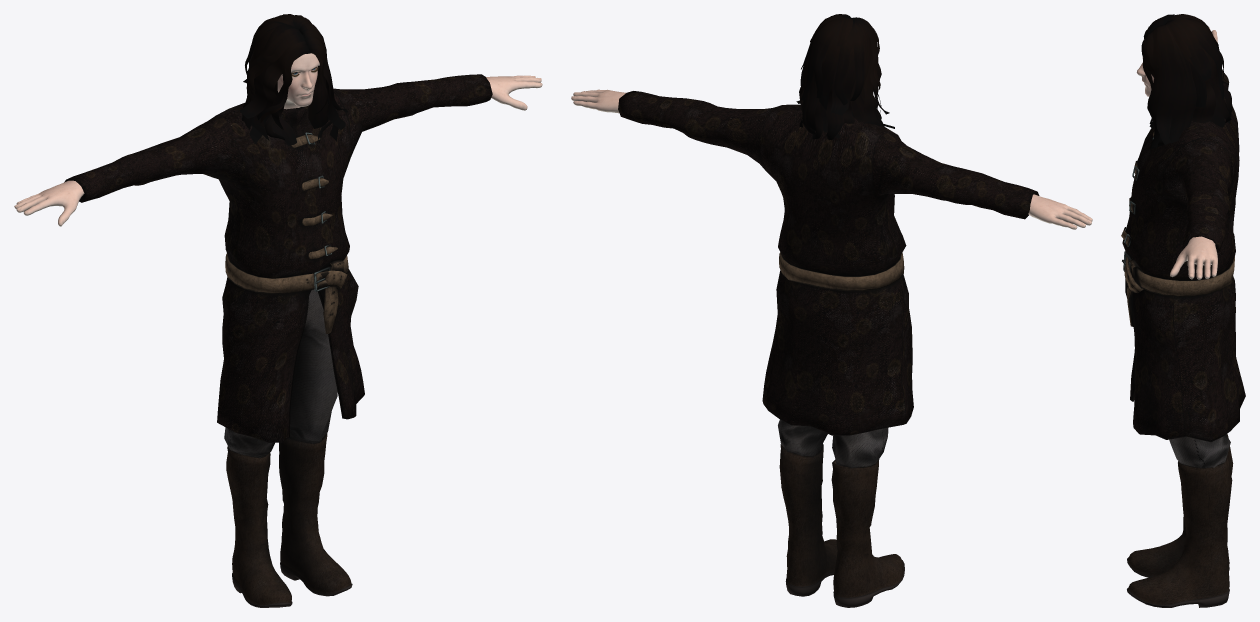
The model's file is grima.obj.
3 views of the same model, side by side, from view 1: azimuth 30°, elevation 25°; view 2: azimuth 150°, elevation 25°; view 3: azimuth 270°, elevation 25° (orthographic).
Visible parts, largest first — view 1: Tops, Shoes, Hair, Bottoms, Body; view 2: Tops, Shoes, Hair, Bottoms, Body; view 3: Tops, Shoes, Hair, Body, Bottoms.
Boxes of the visible parts, x1,y1,x2,y2 form: Tops: (64,74,492,442); Shoes: (226,433,352,607); Hair: (240,14,348,145); Bottoms: (224,289,337,457); Body: (14,53,542,226); Tops: (618,91,1039,435); Shoes: (779,444,904,607); Hair: (796,14,894,140); Bottoms: (778,419,888,468); Body: (571,89,1092,229); Tops: (1121,69,1245,442); Shoes: (1127,434,1233,607); Hair: (1141,14,1232,150); Body: (1136,27,1217,279); Bottoms: (1141,270,1230,468).
Bounding box in the file's own units: 175 × 182 × 36.17.
Materials: 5 (5 with a texture image).
